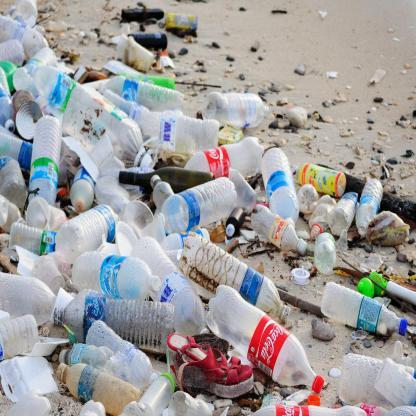Plastic: (204, 277, 326, 393), (54, 288, 178, 346), (25, 56, 106, 127), (68, 245, 164, 302), (82, 318, 154, 393), (154, 172, 238, 234), (52, 357, 142, 414), (318, 280, 410, 334), (130, 104, 221, 154), (58, 201, 120, 265), (188, 136, 266, 180), (30, 111, 62, 206), (262, 146, 300, 223), (201, 88, 269, 130), (132, 368, 177, 416), (356, 175, 386, 239)
